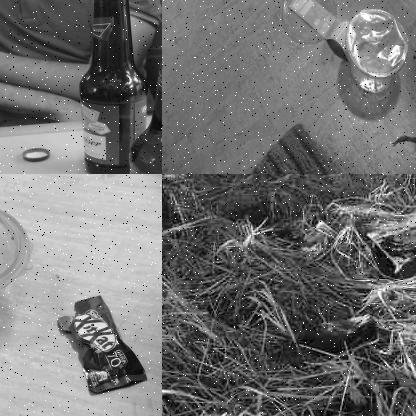glass: (77, 0, 152, 173), (119, 0, 161, 173)
plastic: (60, 288, 152, 402), (345, 4, 411, 103), (0, 187, 31, 345), (284, 0, 339, 44)
